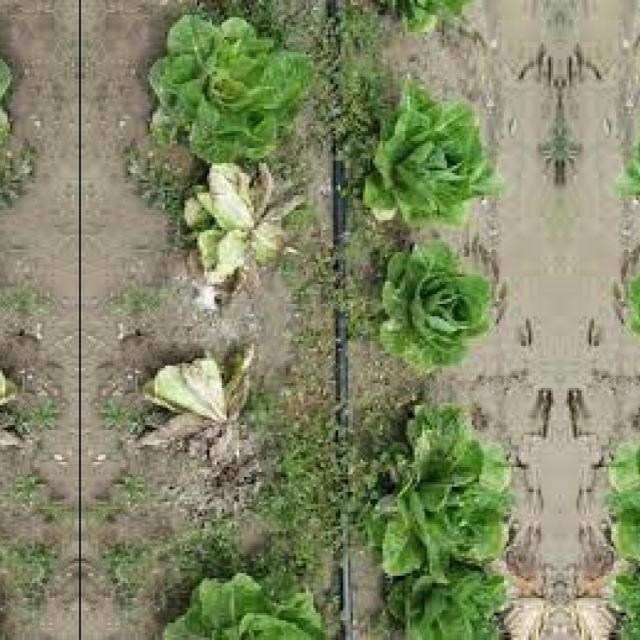healthy: (366, 402, 514, 570), (149, 10, 307, 160), (365, 70, 493, 230), (379, 237, 497, 376), (606, 401, 640, 570), (623, 236, 640, 375), (627, 69, 640, 230), (0, 10, 11, 160)
